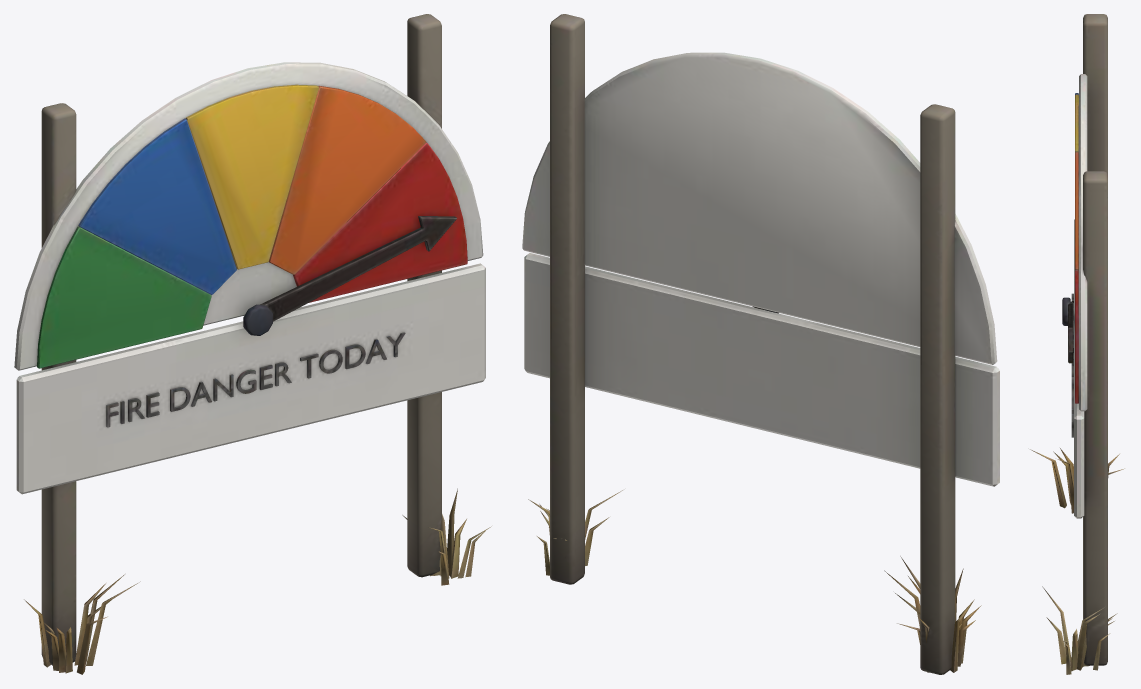
File: fire_sign.glb
3 views of the same model, side by side, from view 1: azimuth 30°, elevation 25°; view 2: azimuth 150°, elevation 25°; view 3: azimuth 270°, elevation 25° (orthographic). The views are drawn at different scales.
Parts seen in each view (by area): view 1: fire_sign; view 2: fire_sign; view 3: fire_sign.
Boxes of the visible parts, x1,y1,x2,y2 form: fire_sign: [14, 14, 491, 674]; fire_sign: [522, 14, 999, 674]; fire_sign: [1030, 14, 1124, 674].
Size of the model in its own units: 2.3 by 2.6 by 0.4768.
1 material, 1 textured.
